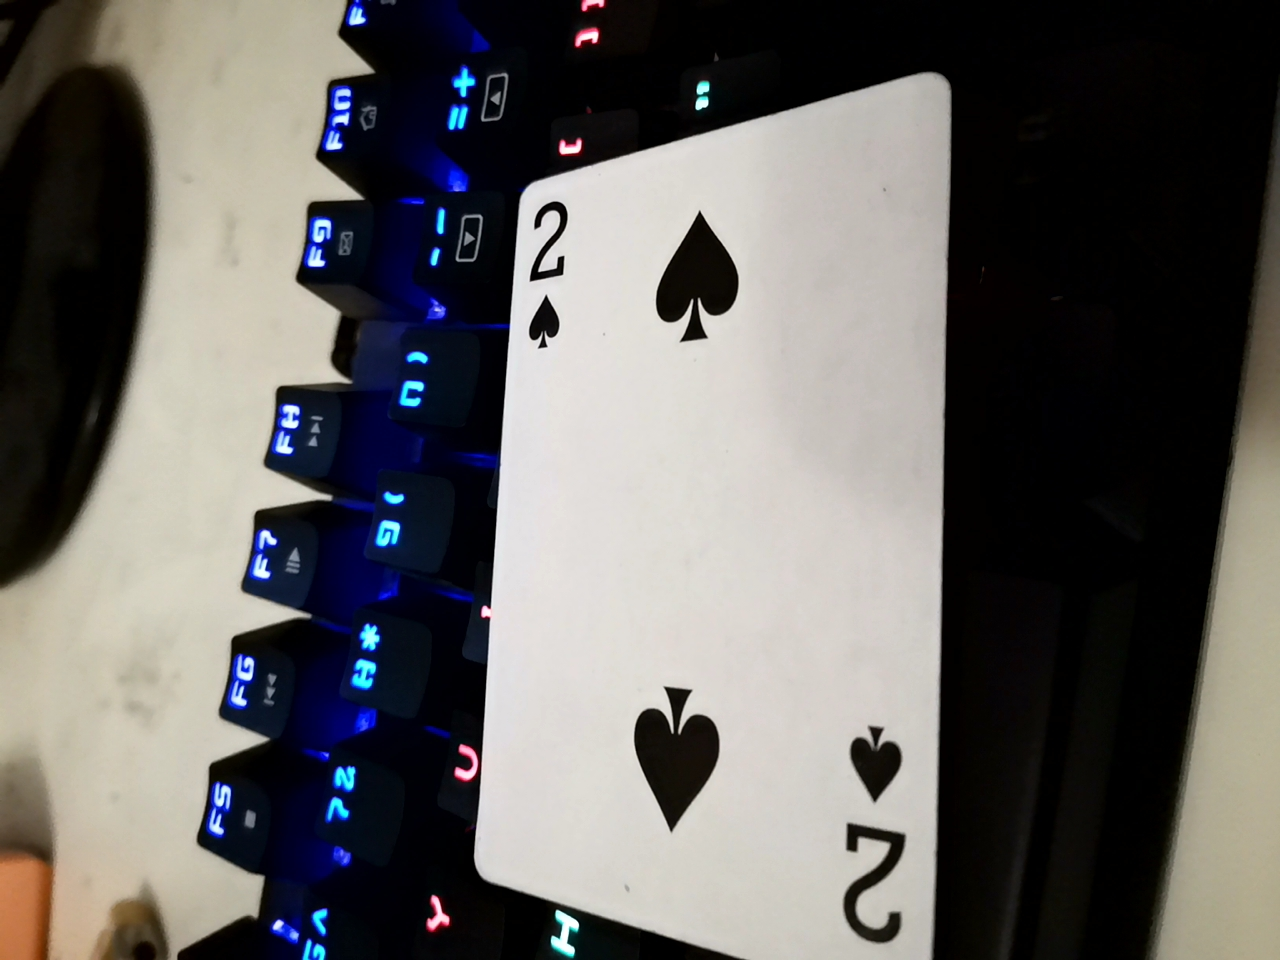ht 2: (490, 81, 967, 942)
